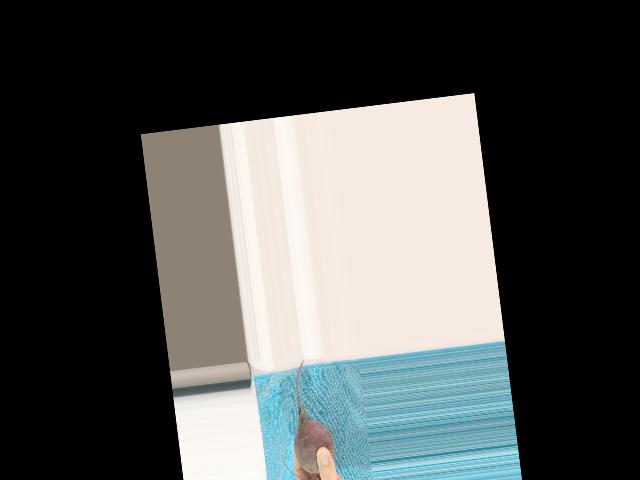beet: (271, 356, 338, 480)
